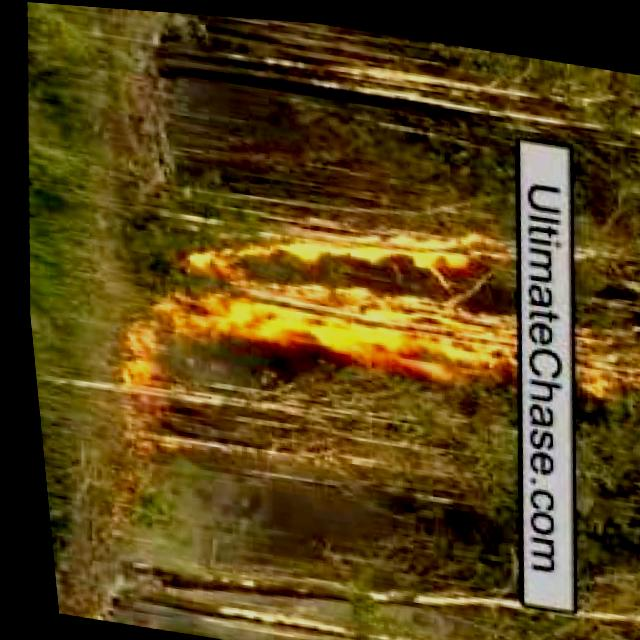Fire: (152, 180, 522, 410), (554, 314, 640, 397), (104, 303, 176, 397)
